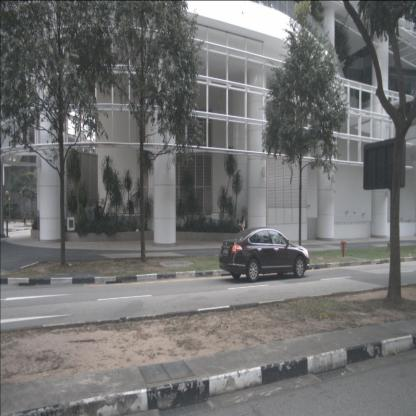human-pedestrian-adult: (238, 215, 246, 249), (23, 209, 27, 226)
vehicle-car: (219, 226, 309, 283)
